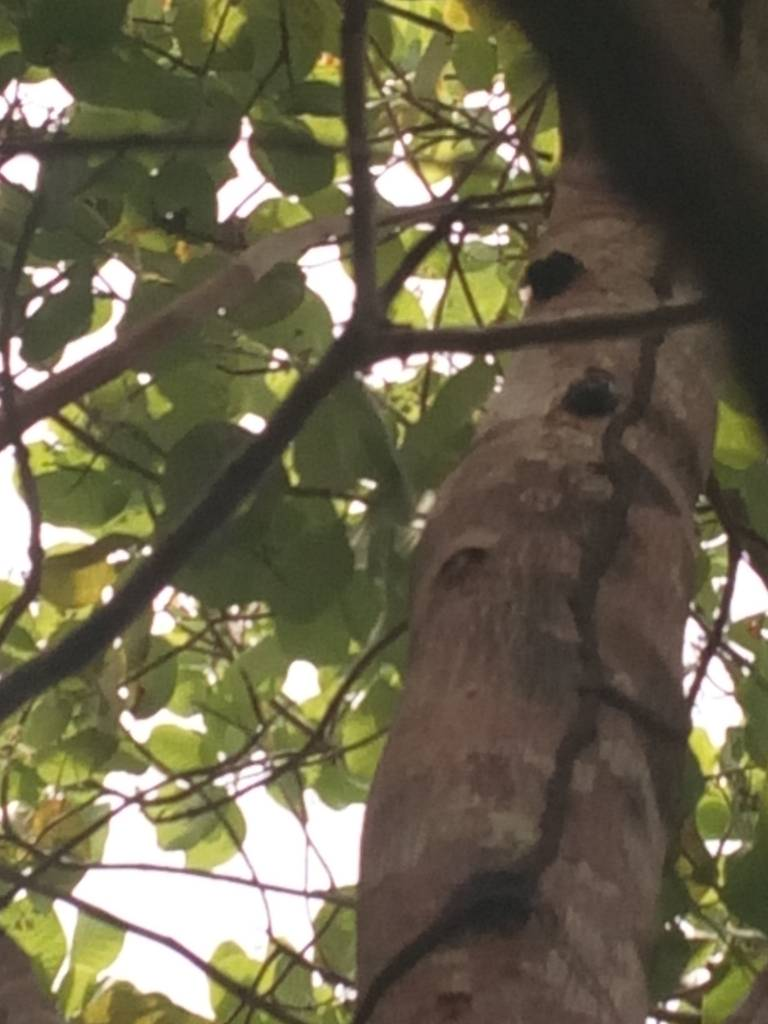Termites: (479, 375, 658, 966)
